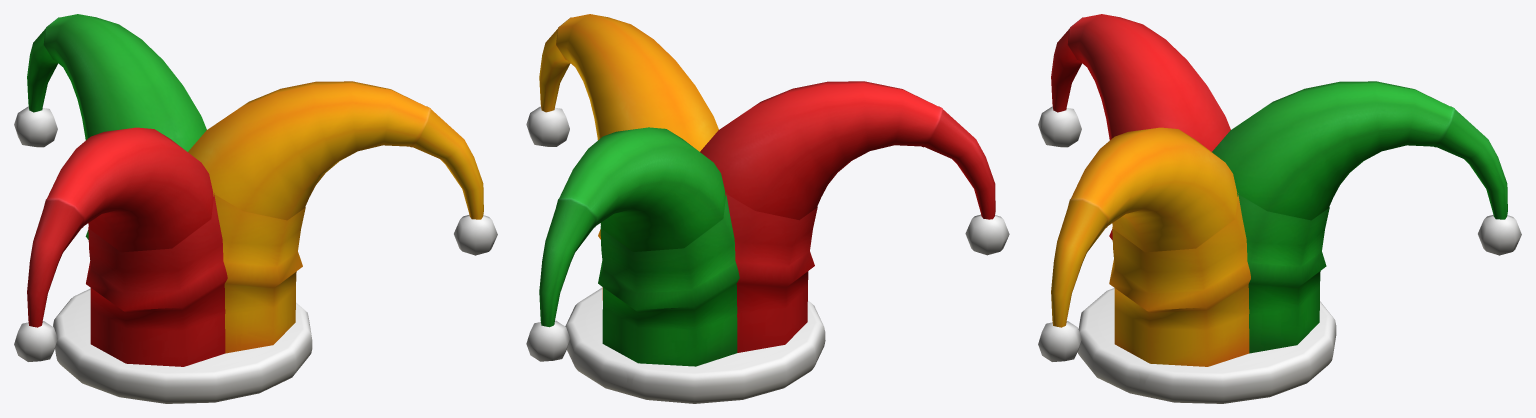
File: Jester_Hat.glb
3 renders of one model, left to right at view 1: azimuth 30°, elevation 25°; view 2: azimuth 150°, elevation 25°; view 3: azimuth 270°, elevation 25°, orthographic.
Parts seen in each view (by area): view 1: Jester_Hat; view 2: Jester_Hat; view 3: Jester_Hat.
Boxes of the visible parts, x1,y1,x2,y2 form: Jester_Hat: (14,14,497,403); Jester_Hat: (526,14,1009,403); Jester_Hat: (1038,14,1521,403).
Size of the model in its own units: 0.9684 by 0.5207 by 0.8493.
1 material, 1 textured.
